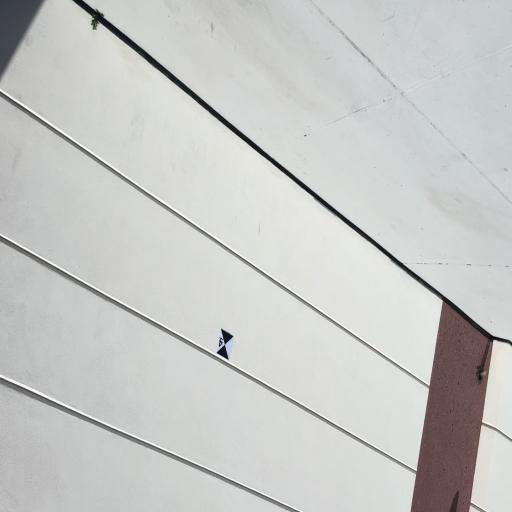target4: (216, 329, 234, 361)
